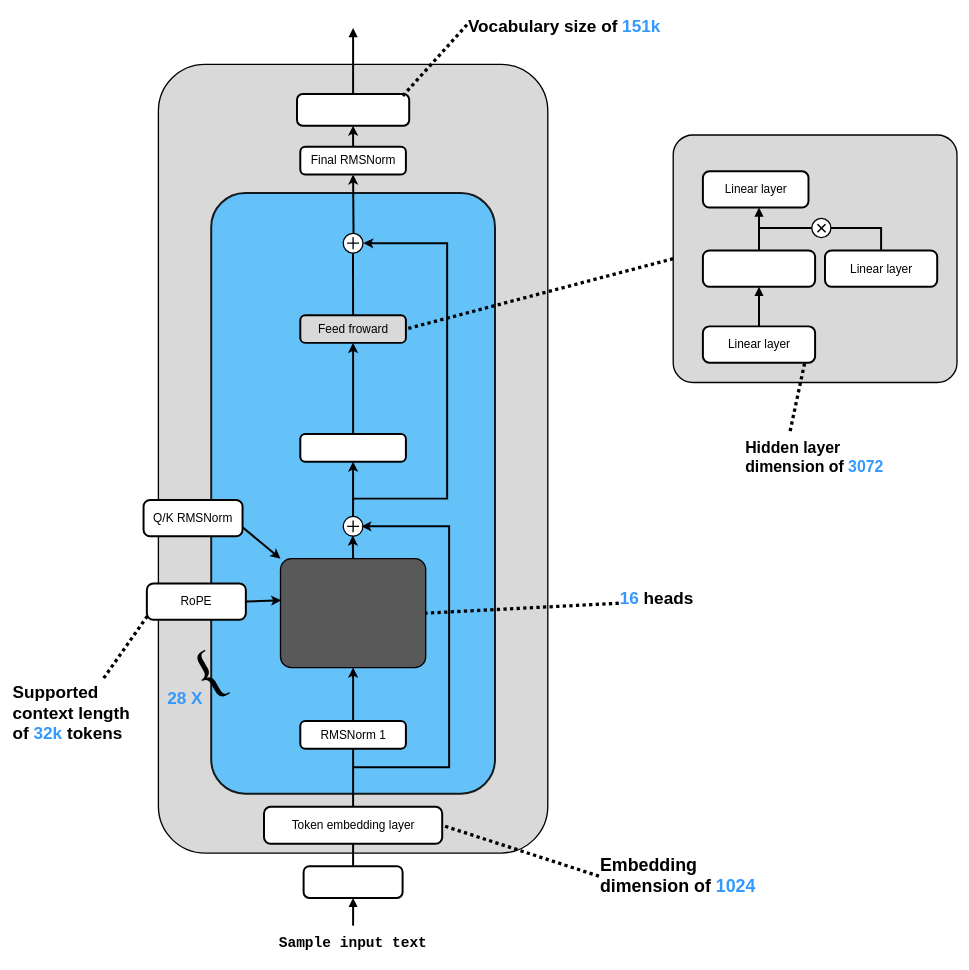
The diagram is 969 pixels wide and 970 high, and some of its shapes have lost their labels. The centre of each missing label's shape, as x and y in pixels:
"Linear output layer" belongs at (353,109).
"Masked grouped-query attention" belongs at (353,613).
"RMSNorm 2" belongs at (353,447).
"SiLU activation" belongs at (759,268).
"Tokenized text" belongs at (352,882).
